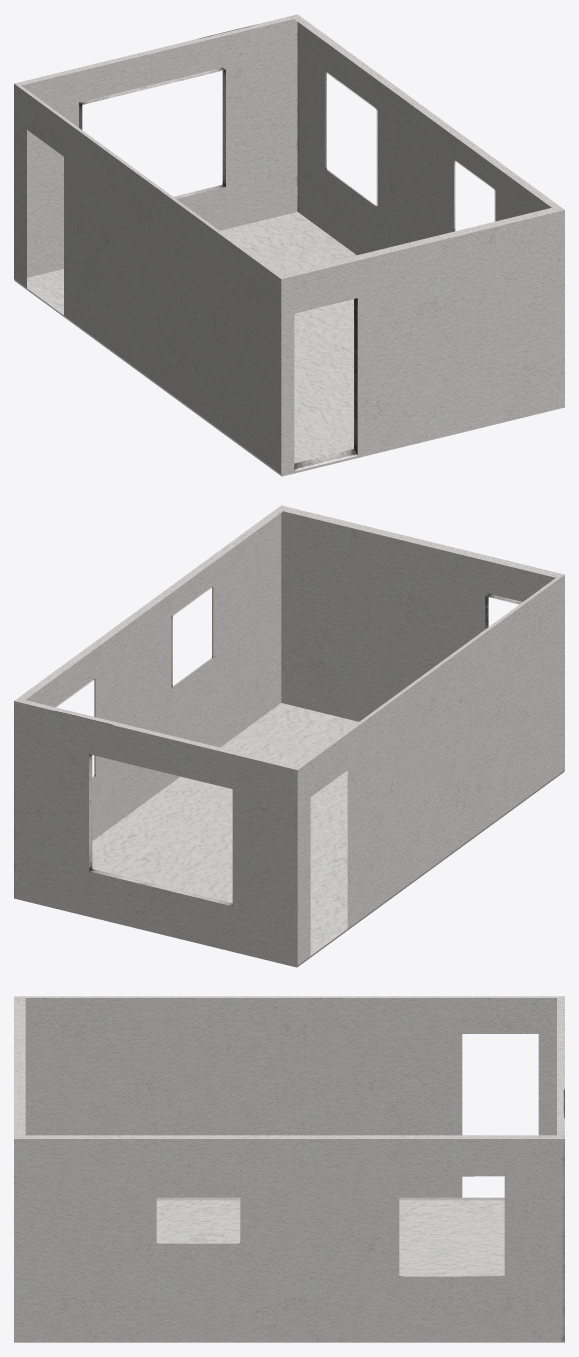
Rendered from exterior.gltf.
3 renders of one model, top to bottom at view 1: azimuth 30°, elevation 25°; view 2: azimuth 150°, elevation 25°; view 3: azimuth 270°, elevation 25°, orthographic. The views are drawn at different scales.
Parts seen in each view (by area): view 1: room.002; view 2: room.002; view 3: room.002.
Boxes of the visible parts, x1,y1,x2,y2 form: room.002: [14, 14, 564, 476]; room.002: [14, 505, 564, 967]; room.002: [14, 996, 564, 1342].
Size of the model in its own units: 12.11 by 8.05 by 19.75.
1 material, 1 textured.
